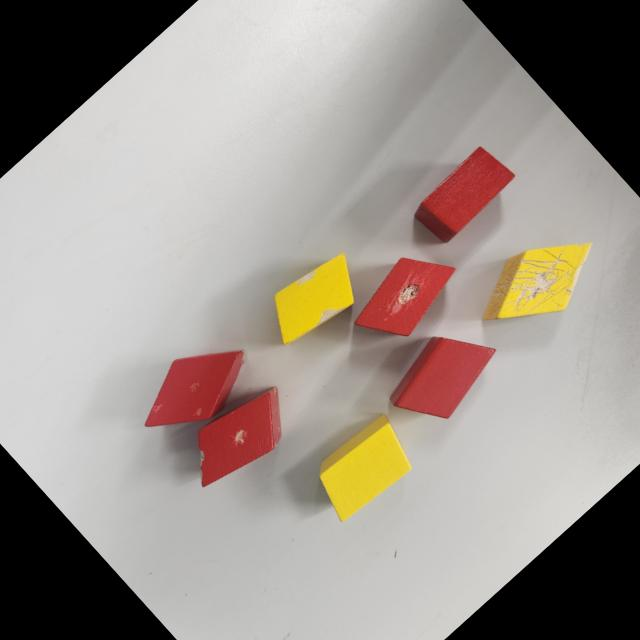broken: (462, 208, 615, 356), (124, 320, 264, 456), (173, 372, 307, 502), (375, 310, 509, 440), (342, 234, 468, 356), (254, 242, 372, 356)
red: (408, 140, 518, 248)
yellow: (300, 406, 424, 527)
